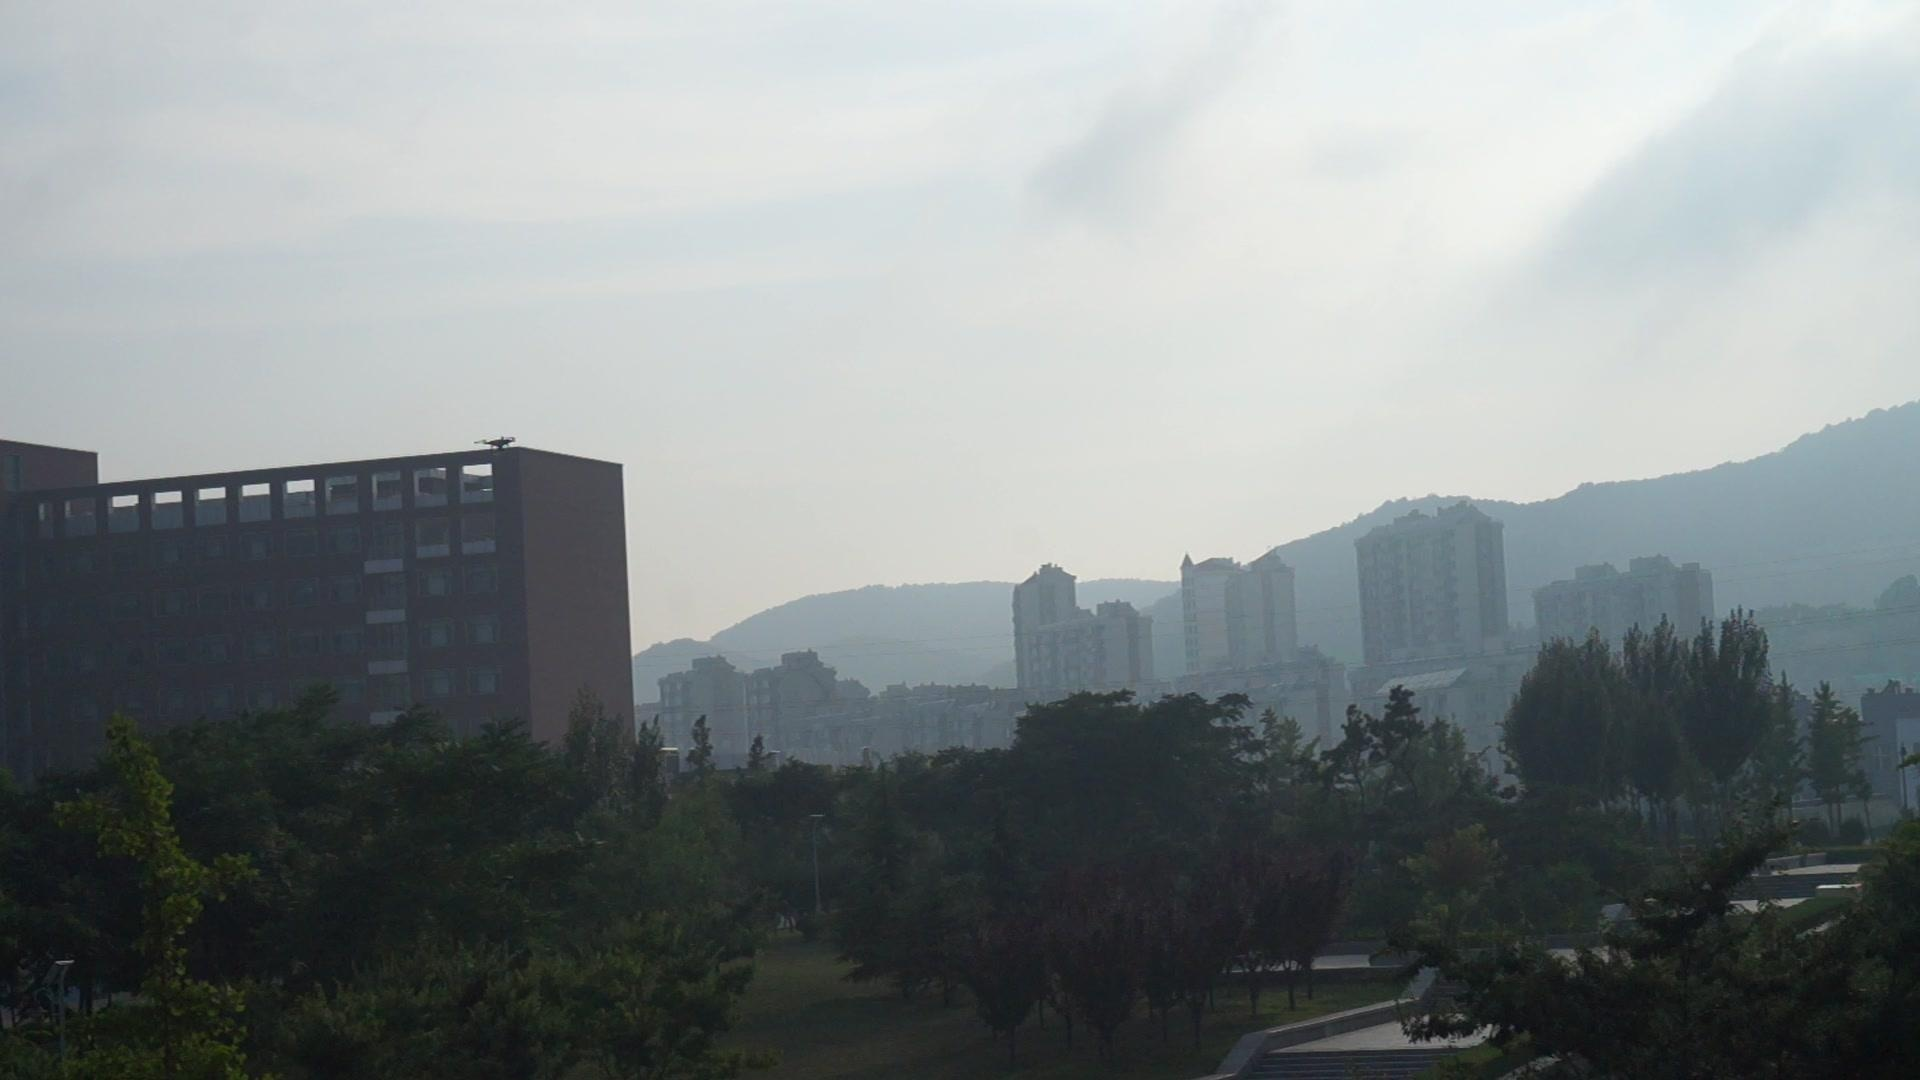UAV: (473, 436, 517, 454)
